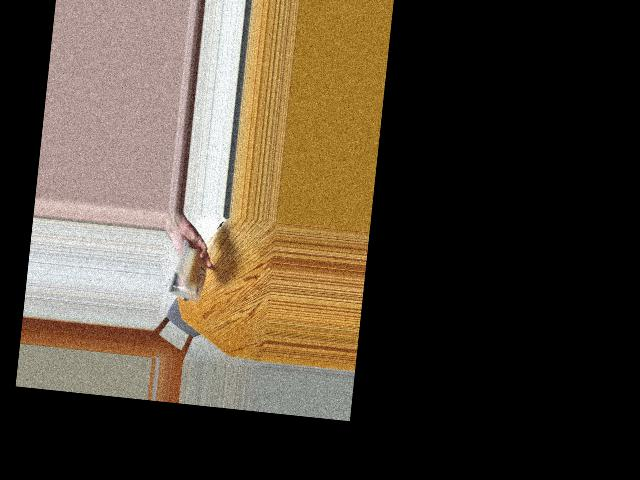cheese: (172, 249, 207, 298)
